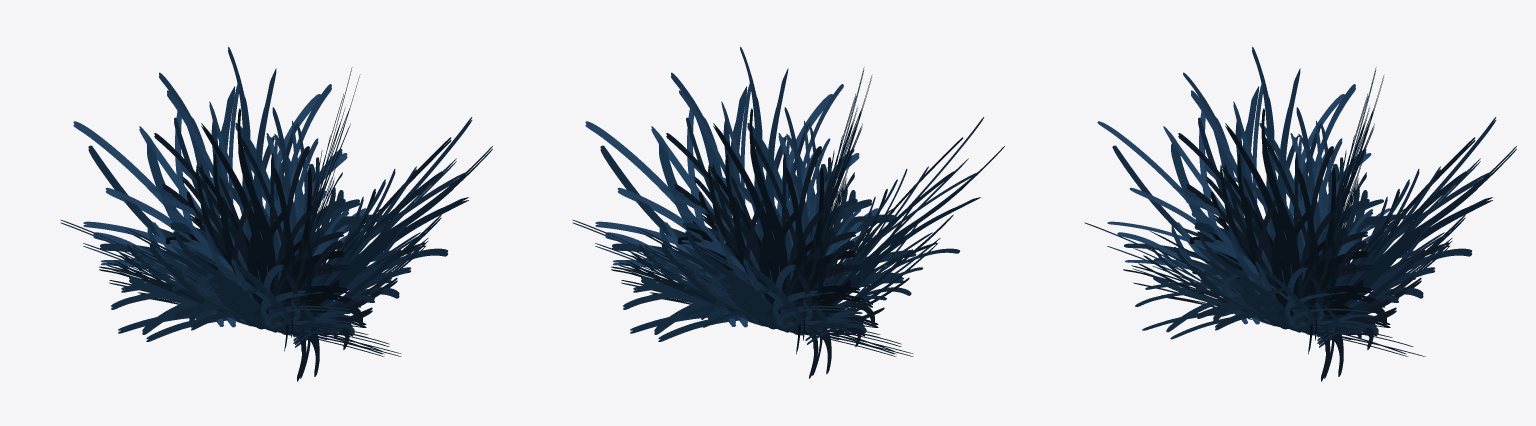
File: grasswide.fbx
3 views of the same model, side by side, from view 1: azimuth 30°, elevation 25°; view 2: azimuth 150°, elevation 25°; view 3: azimuth 270°, elevation 25° (orthographic).
Visible parts, largest first — view 1: grass1; view 2: grass1; view 3: grass1.
Part boxes in pixels (x1=…): grass1: x1=60, y1=47, x2=492, y2=381; grass1: x1=572, y1=47, x2=1004, y2=378; grass1: x1=1084, y1=47, x2=1516, y2=381.
Bounding box in the file's own units: 11.07 × 5.85 × 9.59.
